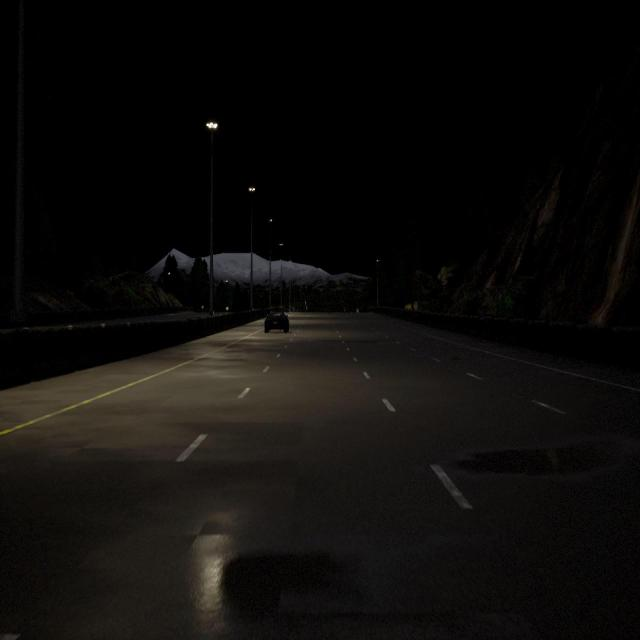Vehicle: (264, 309, 289, 333)
